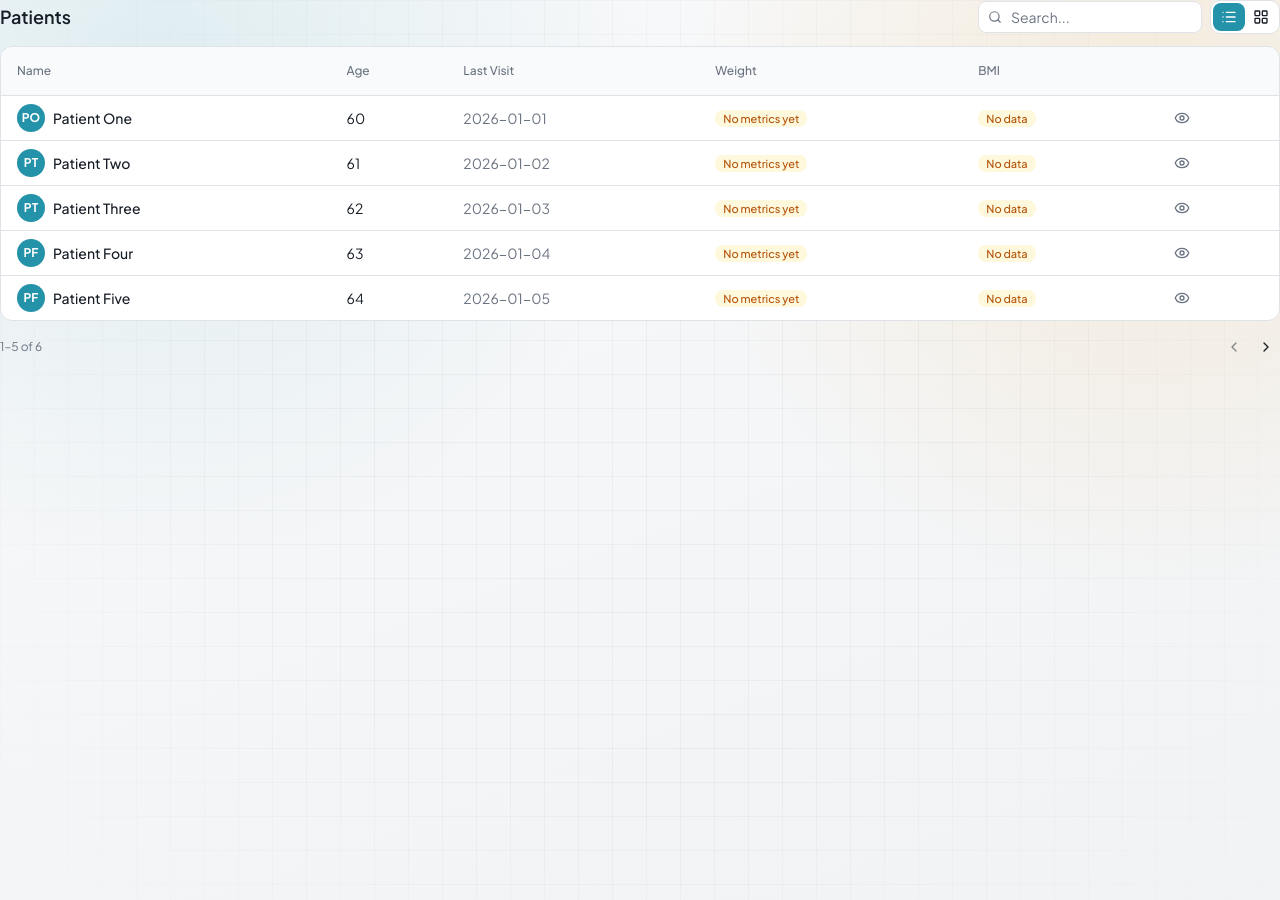
Test: PatientsTab › filters by search and resets page
The width and height of the screenshot is (1280, 900).
Expected: the text "Patient One" is shown, [53,108,132,128]
Type "Six" into the field with placeholder "Search..." at (1090, 17), box [978,1,1202,33]
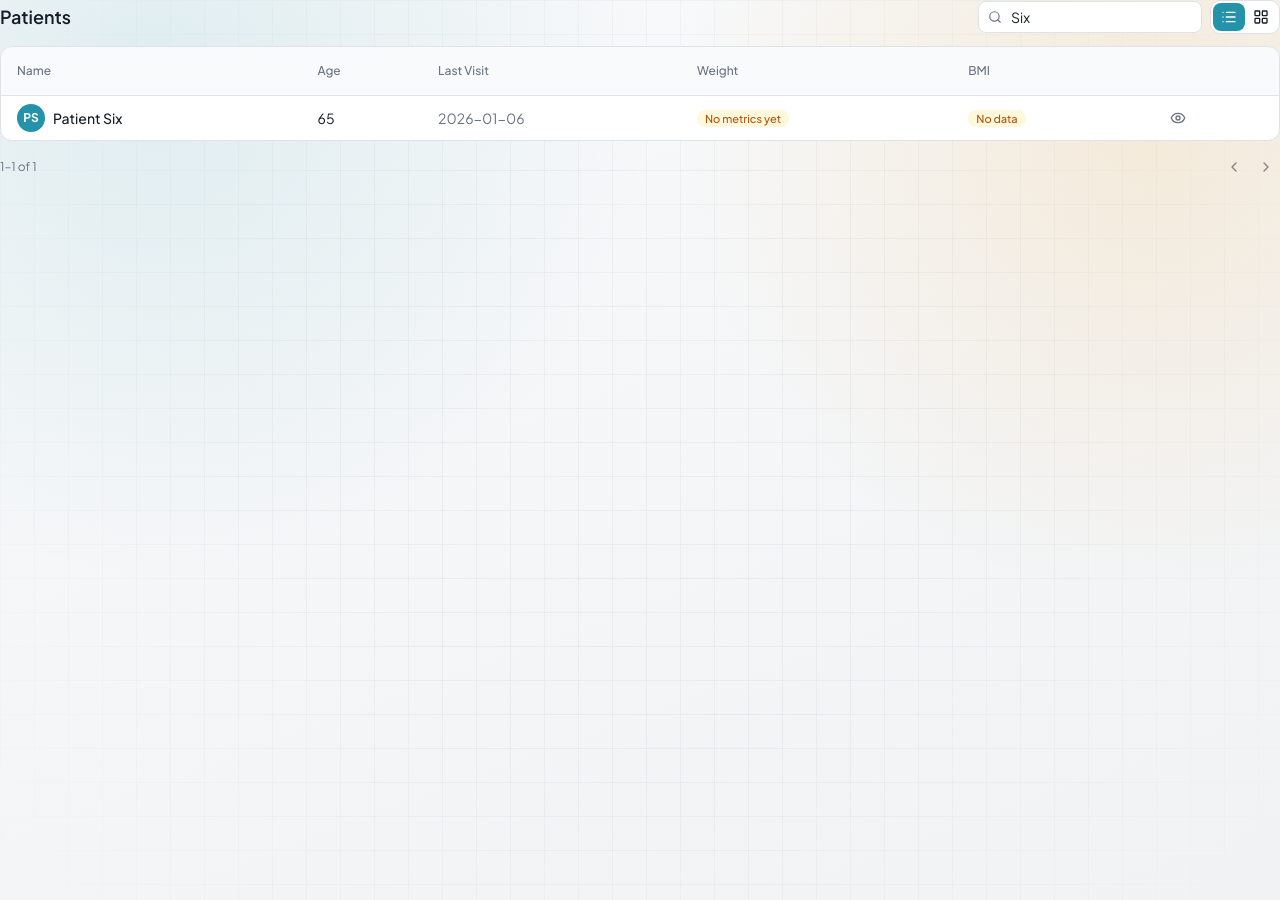
Expected: the text "Patient Six" is shown, [53,108,122,128]
Expected: the text "Patient One" is gone
